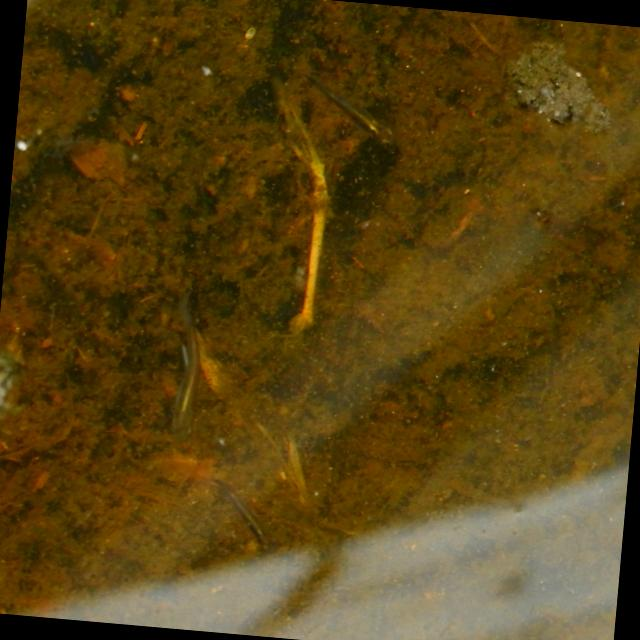Sivrisinek Baligi: (305, 67, 419, 178), (148, 306, 214, 454)
